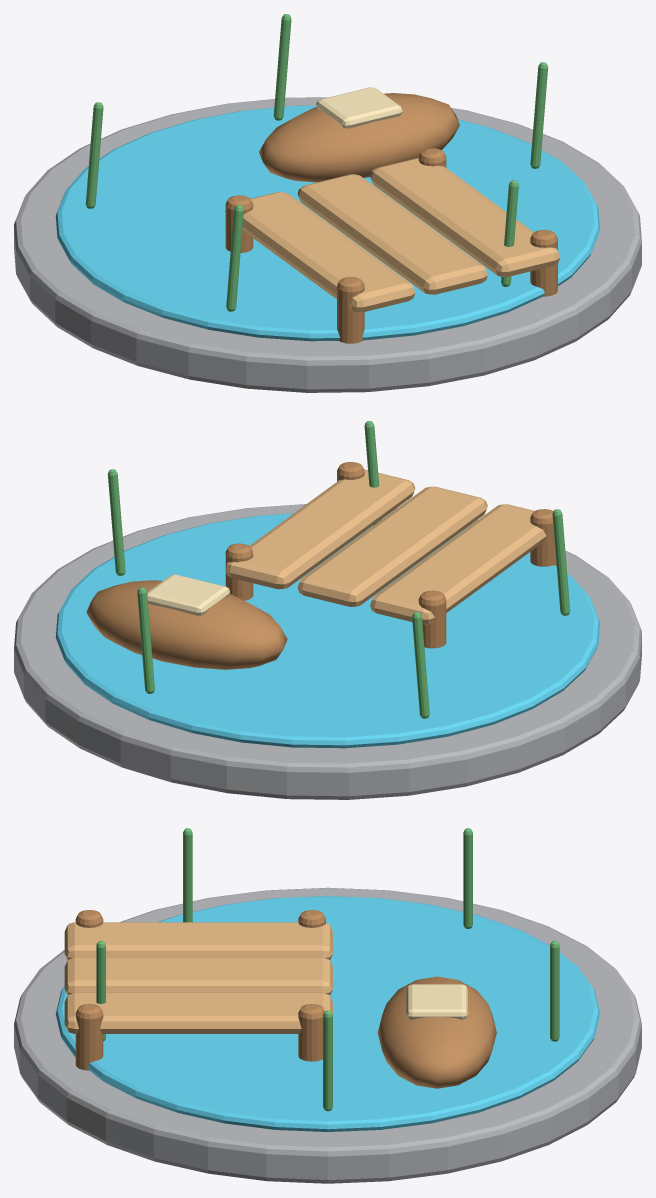
File: region_fishing.glb
The picture shows the model from 3 angles, top to bottom: view 1: azimuth 30°, elevation 25°; view 2: azimuth 150°, elevation 25°; view 3: azimuth 270°, elevation 25°; orthographic projection.
Visible parts, largest first — view 1: blue pond, rock shore, boat hull, dock plank.001, dock plank.002, dock plank, boat seat, dock pile, reed.003, reed, reed.001, reed.002 (+3 smaller); view 2: blue pond, rock shore, boat hull, dock plank.001, dock plank.002, dock plank, boat seat, dock pile.001, reed.001, reed.002, reed, reed.003 (+3 smaller); view 3: blue pond, rock shore, dock plank.002, dock plank.001, dock plank, boat hull, boat seat, dock pile.002, dock pile.003, reed, reed.001, reed.002 (+2 smaller).
Part boxes in pixels (x1=…): blue pond: x1=55, y1=105, x2=600, y2=341; rock shore: x1=14, y1=97, x2=641, y2=392; boat hull: x1=259, y1=93, x2=459, y2=182; dock plank.001: x1=297, y1=174, x2=487, y2=294; dock plank.002: x1=370, y1=157, x2=560, y2=276; dock plank: x1=225, y1=192, x2=415, y2=312; boat seat: x1=316, y1=87, x2=402, y2=128; dock pile: x1=337, y1=277, x2=364, y2=343; reed.003: x1=226, y1=205, x2=243, y2=311; reed: x1=530, y1=62, x2=548, y2=168; reed.001: x1=273, y1=14, x2=291, y2=120; reed.002: x1=85, y1=102, x2=103, y2=208; blue pond: x1=55, y1=513, x2=600, y2=748; rock shore: x1=14, y1=504, x2=641, y2=799; boat hull: x1=86, y1=580, x2=287, y2=669; dock plank.001: x1=297, y1=486, x2=487, y2=606; dock plank.002: x1=225, y1=469, x2=415, y2=589; dock plank: x1=370, y1=504, x2=546, y2=624; boat seat: x1=147, y1=574, x2=229, y2=615; dock pile.001: x1=418, y1=590, x2=446, y2=648; reed.001: x1=137, y1=587, x2=154, y2=693; reed.002: x1=412, y1=612, x2=429, y2=718; reed: x1=107, y1=469, x2=125, y2=575; reed.003: x1=552, y1=509, x2=570, y2=615; blue pond: x1=55, y1=896, x2=600, y2=1131; rock shore: x1=14, y1=887, x2=641, y2=1183; dock plank.002: x1=64, y1=992, x2=332, y2=1033; dock plank.001: x1=64, y1=957, x2=332, y2=995; dock plank: x1=64, y1=922, x2=332, y2=960; boat hull: x1=377, y1=976, x2=496, y2=1088; boat seat: x1=406, y1=984, x2=467, y2=1019; dock pile.002: x1=75, y1=1004, x2=103, y2=1070; dock pile.003: x1=298, y1=1004, x2=324, y2=1061; reed: x1=323, y1=1010, x2=332, y2=1111; reed.001: x1=550, y1=941, x2=559, y2=1041; reed.002: x1=463, y1=828, x2=472, y2=928.
Bounding box in the file's own units: 3.16 × 0.86 × 3.16.
